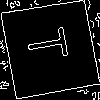T: (25, 24, 78, 63)
